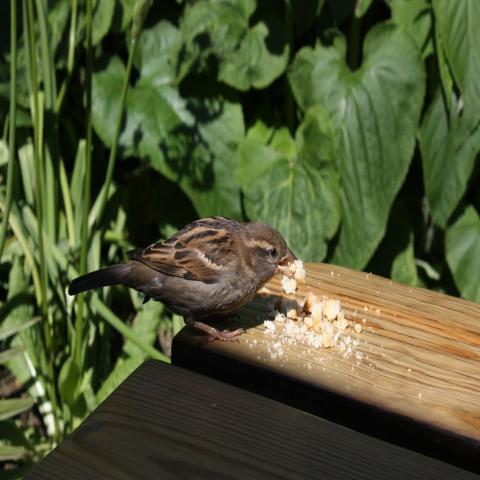bird: (67, 213, 297, 346)
